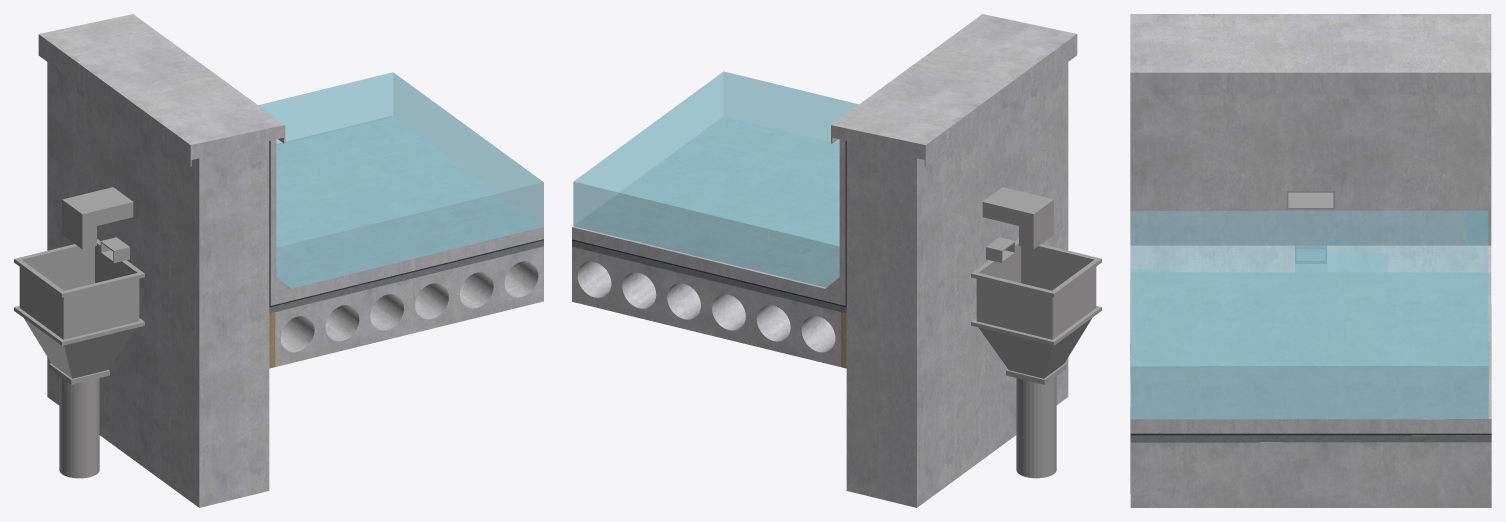
File: water-storage-parapet-drainage.glb
3 renders of one model, left to right at view 1: azimuth 30°, elevation 25°; view 2: azimuth 150°, elevation 25°; view 3: azimuth 270°, elevation 25°, orthographic. The views are drawn at different scales.
Visible parts, largest first — view 1: 承托及挡水墙, 水层, 保护层, 女儿墙压顶, 雨水斗, 屋面空心板, 溢水孔, 找平层, 泛水保护砂浆, 防水层, 泄水孔; view 2: 承托及挡水墙, 水层, 保护层, 女儿墙压顶, 雨水斗, 屋面空心板, 溢水孔, 找平层, 泛水保护砂浆, 防水层, 泄水孔; view 3: 水层, 泛水保护砂浆, 保护层, 女儿墙压顶, 屋面空心板, 找平层, 防水层, 溢水孔, 泄水孔.
Part boxes in pixels (x1,y1,x2,y2): 承托及挡水墙: (47, 62, 269, 507); 水层: (258, 72, 543, 288); 保护层: (270, 116, 543, 305); 女儿墙压顶: (38, 14, 285, 166); 雨水斗: (14, 239, 144, 478); 屋面空心板: (275, 246, 543, 366); 溢水孔: (62, 187, 133, 249); 找平层: (269, 240, 543, 313); 泛水保护砂浆: (270, 139, 290, 293); 防水层: (269, 141, 543, 307); 泄水孔: (100, 237, 129, 262); 承托及挡水墙: (846, 62, 1068, 507); 水层: (573, 71, 858, 287); 保护层: (572, 116, 845, 305); 女儿墙压顶: (831, 14, 1077, 166); 雨水斗: (971, 239, 1101, 478); 屋面空心板: (572, 247, 840, 366); 溢水孔: (982, 187, 1053, 249); 找平层: (572, 240, 846, 313); 泛水保护砂浆: (825, 139, 845, 293); 防水层: (572, 141, 846, 307); 泄水孔: (986, 237, 1015, 262); 水层: (1130, 210, 1488, 419); 泛水保护砂浆: (1130, 94, 1491, 272); 保护层: (1130, 264, 1491, 433); 女儿墙压顶: (1130, 14, 1491, 94); 屋面空心板: (1130, 356, 1491, 507); 找平层: (1130, 349, 1491, 442); 防水层: (1130, 344, 1491, 435); 溢水孔: (1286, 191, 1334, 209); 泄水孔: (1295, 248, 1326, 261).
Bounding box in the file's own units: 1.47 × 1.22 × 0.9011.
Materials: 10 (7 with a texture image).
